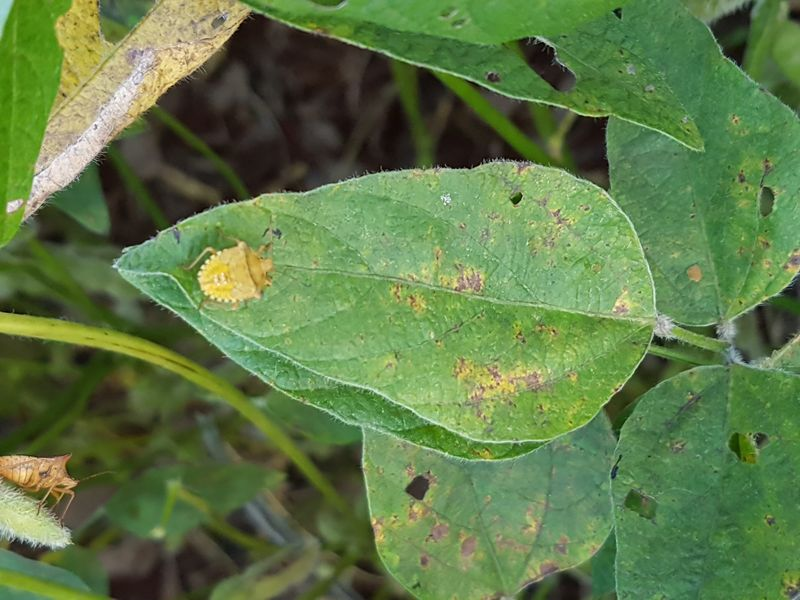Euschistus_heros_adulto: (1, 436, 116, 534)
Euschistus_heros_ninfa: (169, 227, 288, 324)
